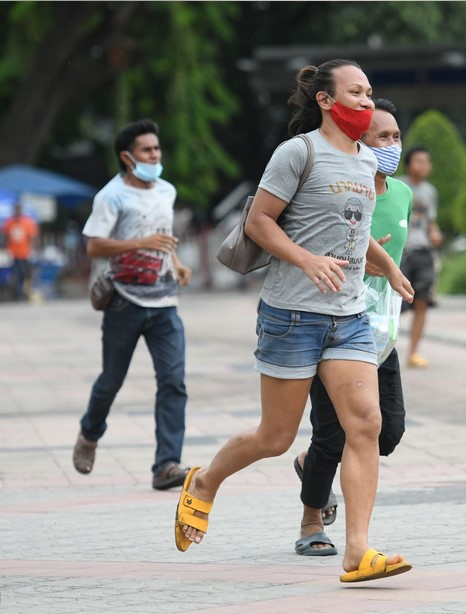face_no_mask: (409, 148, 431, 178)
face_with_mask: (307, 64, 377, 142), (114, 122, 164, 187), (365, 101, 403, 181)
